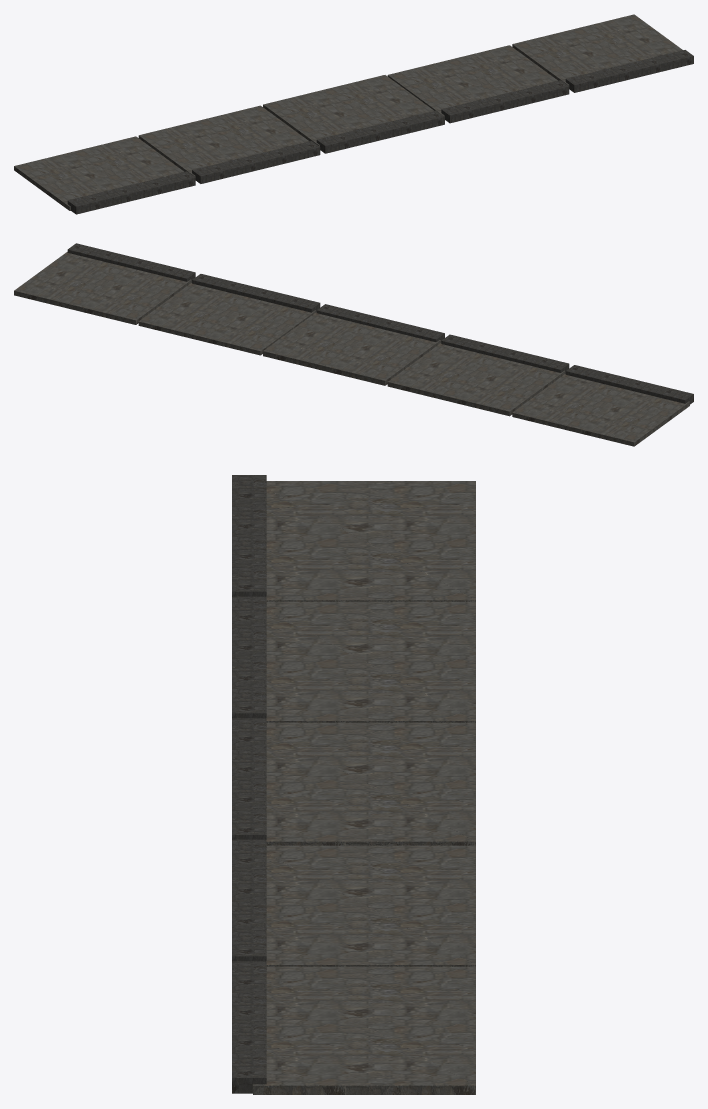
File: prop_ashmoor_pavement.glb
3 views of the same model, one above another, from view 1: azimuth 30°, elevation 25°; view 2: azimuth 150°, elevation 25°; view 3: azimuth 270°, elevation 25° (orthographic). The views are drawn at different scales.
Visible parts, largest first — view 1: prop_ashmoor_pavement; view 2: prop_ashmoor_pavement; view 3: prop_ashmoor_pavement.
Part boxes in pixels (bbox=[...]): prop_ashmoor_pavement: bbox=[14, 14, 693, 214]; prop_ashmoor_pavement: bbox=[14, 243, 693, 446]; prop_ashmoor_pavement: bbox=[232, 475, 475, 1094].
Bounding box in the file's own units: 9.96 × 0.12 × 1.69.
2 materials, 2 textured.
